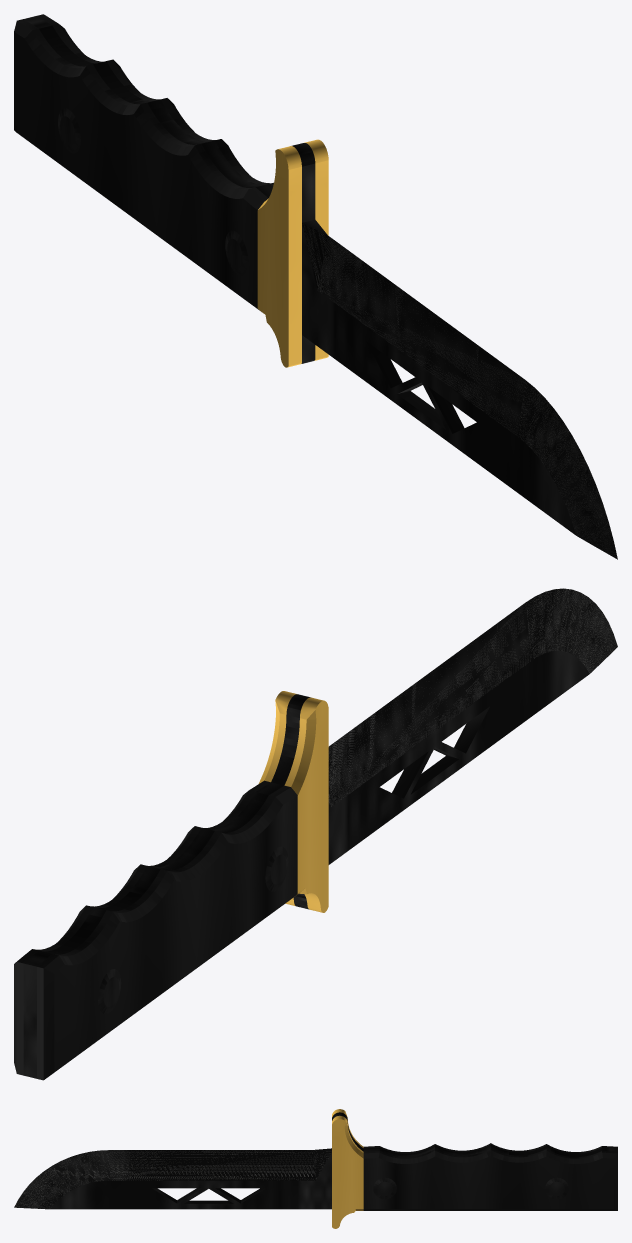
File: model_align.obj
3 views of the same model, one above another, from view 1: azimuth 30°, elevation 25°; view 2: azimuth 150°, elevation 25°; view 3: azimuth 270°, elevation 25° (orthographic). The views are drawn at different scales.
Parts seen in each view (by area): view 1: mesh5_mesh5-geometry, mesh7_mesh7-geometry, mesh1_mesh1-geometry, mesh6_mesh6-geometry, mesh2_mesh2-geometry, mesh3_mesh3-geometry, mesh4_mesh4-geometry; view 2: mesh5_mesh5-geometry, mesh7_mesh7-geometry, mesh1_mesh1-geometry, mesh6_mesh6-geometry, mesh2_mesh2-geometry, mesh3_mesh3-geometry, mesh4_mesh4-geometry; view 3: mesh5_mesh5-geometry, mesh6_mesh6-geometry, mesh2_mesh2-geometry, mesh7_mesh7-geometry, mesh3_mesh3-geometry, mesh4_mesh4-geometry.
Part boxes in pixels (x1,y1,x2,y2): mesh5_mesh5-geometry: (24, 16, 617, 559); mesh7_mesh7-geometry: (14, 19, 268, 311); mesh1_mesh1-geometry: (257, 146, 301, 367); mesh6_mesh6-geometry: (37, 14, 273, 186); mesh2_mesh2-geometry: (304, 139, 328, 360); mesh3_mesh3-geometry: (225, 230, 248, 275); mesh4_mesh4-geometry: (58, 108, 80, 153); mesh5_mesh5-geometry: (23, 588, 617, 1078); mesh7_mesh7-geometry: (37, 785, 297, 1080); mesh1_mesh1-geometry: (284, 697, 328, 912); mesh6_mesh6-geometry: (14, 780, 270, 1075); mesh2_mesh2-geometry: (258, 691, 297, 906); mesh3_mesh3-geometry: (265, 846, 288, 891); mesh4_mesh4-geometry: (98, 969, 121, 1013); mesh5_mesh5-geometry: (14, 1112, 617, 1209); mesh6_mesh6-geometry: (363, 1148, 617, 1210); mesh2_mesh2-geometry: (332, 1115, 363, 1228); mesh7_mesh7-geometry: (363, 1143, 617, 1153); mesh3_mesh3-geometry: (373, 1177, 396, 1199); mesh4_mesh4-geometry: (545, 1177, 568, 1199).
Size of the model in its own units: 0.0104 by 0.0486 by 0.2421.
